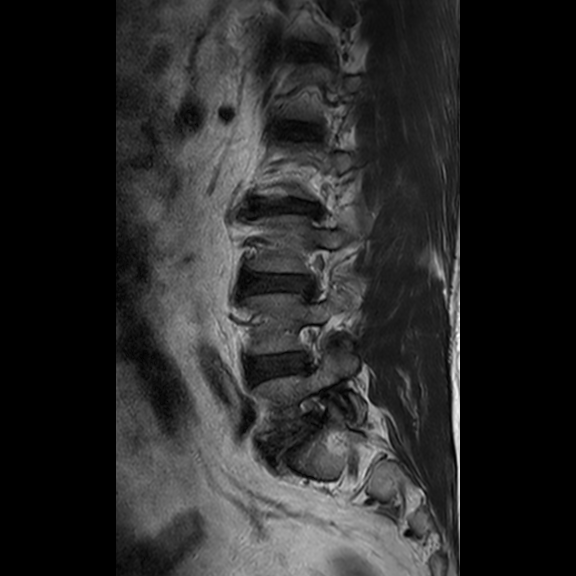LFS0: (289, 240, 342, 309)
LFS1: (282, 317, 334, 379)
LFS3: (284, 384, 337, 440)
